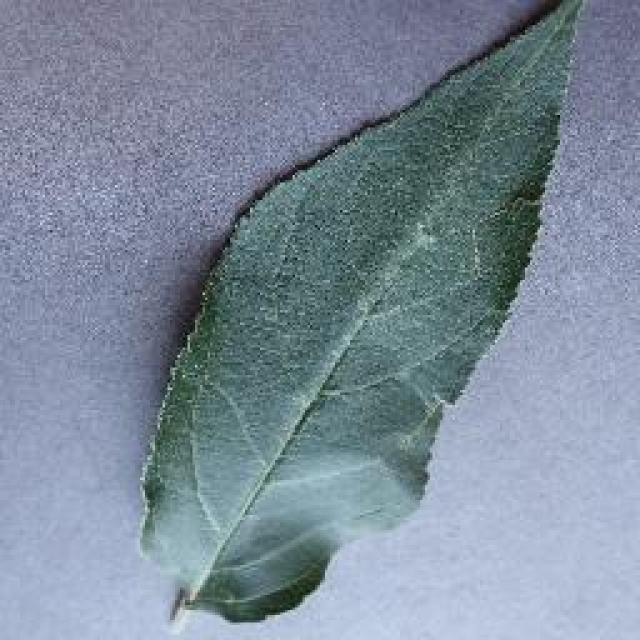apple healthy: (132, 0, 589, 632)
